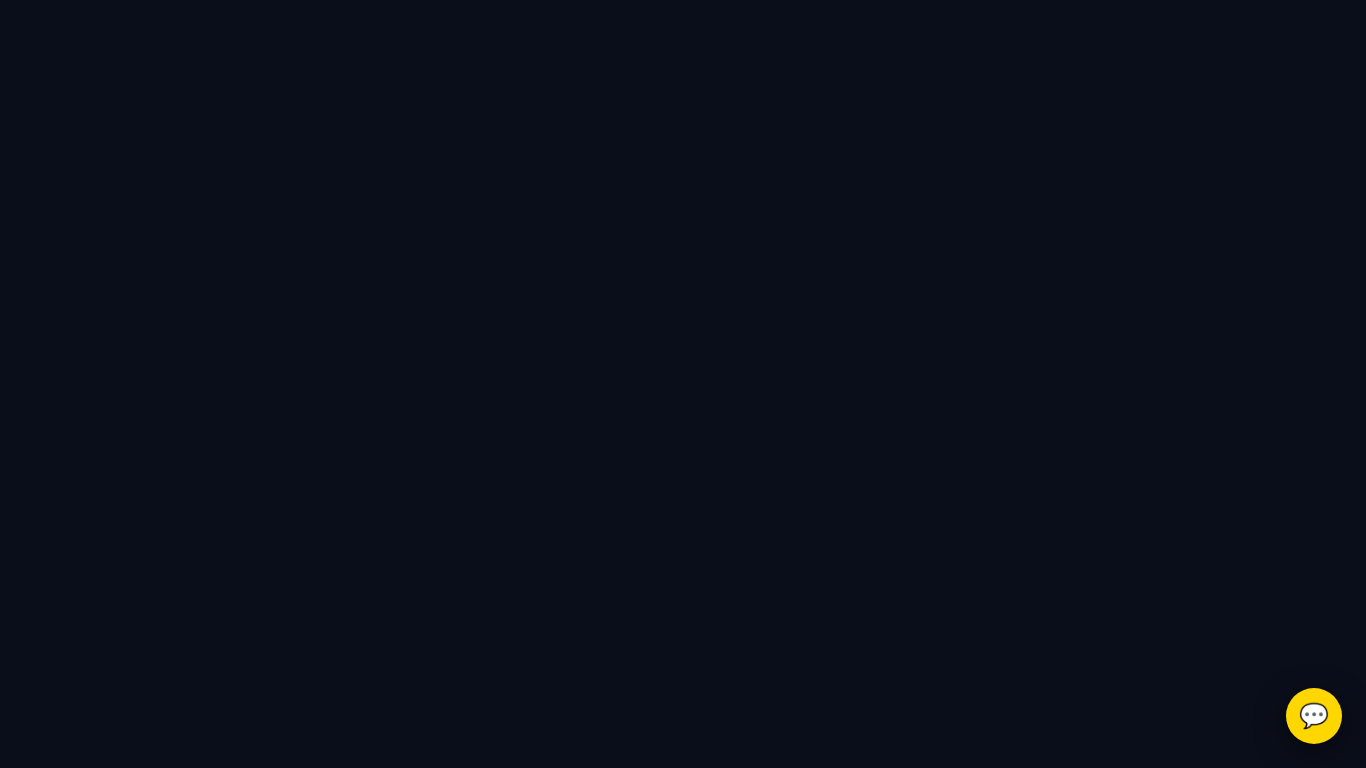
Test: RoomChatLauncher › does not fetch message history until the drawer opens
Click the button named "open room chat" at (1314, 716), box [1286, 688, 1342, 744]
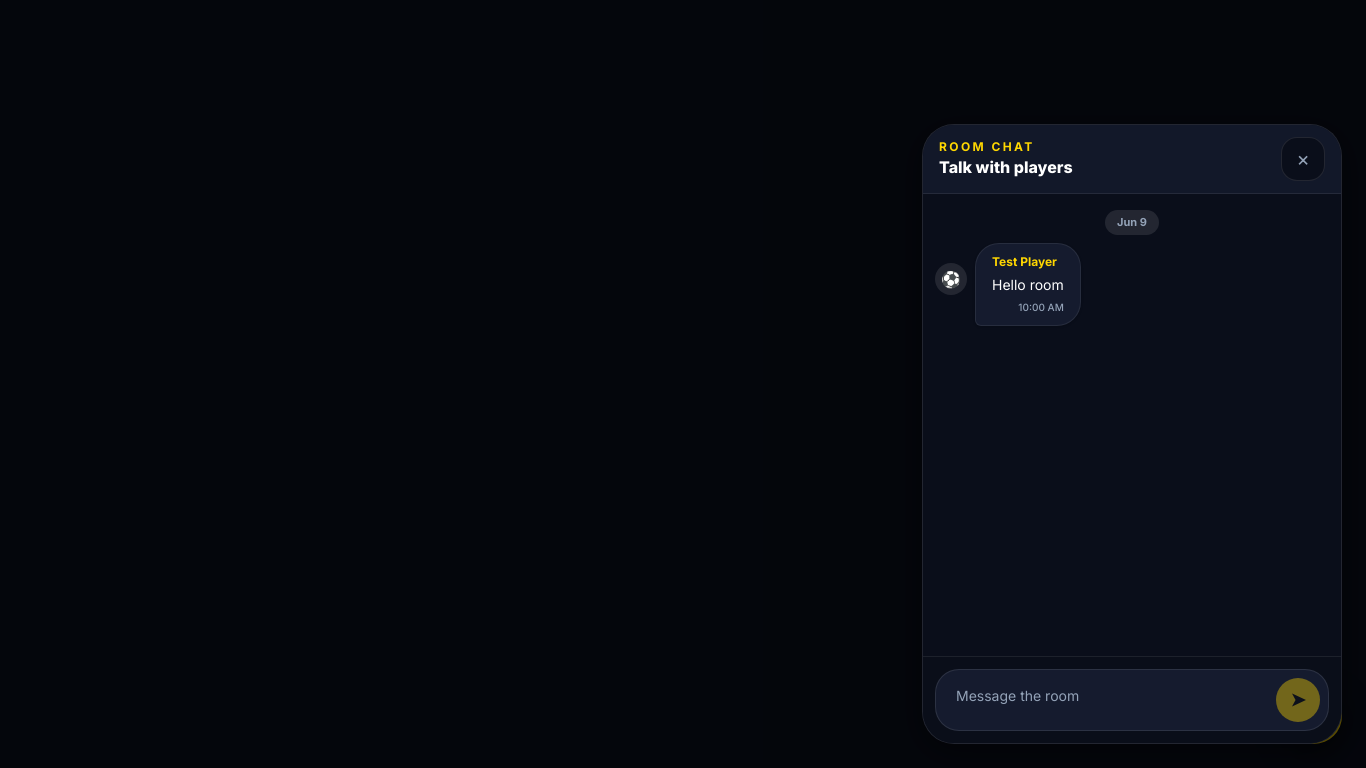
expect the text "Hello room" is shown: met, box [992, 274, 1064, 296]
